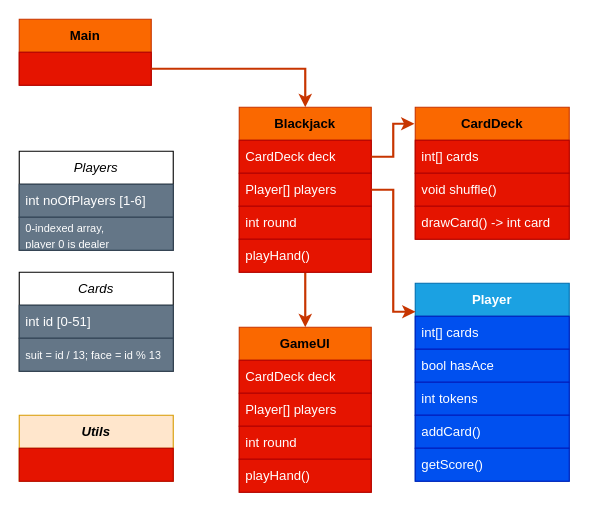
Some shapes in this 589 by 512 pixel diagram are drawn without their labels. Here are the shapes that lost their labels. From the top down, the centre of each, then its label:
point (84, 68): Blackjack game
point (95, 464): Utils static methods
